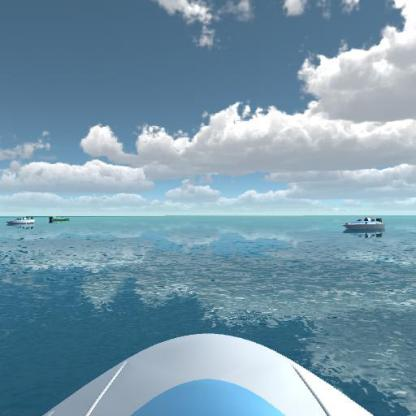usv0: (47, 212, 73, 226)
usv1: (340, 212, 389, 238), (3, 214, 36, 228)
